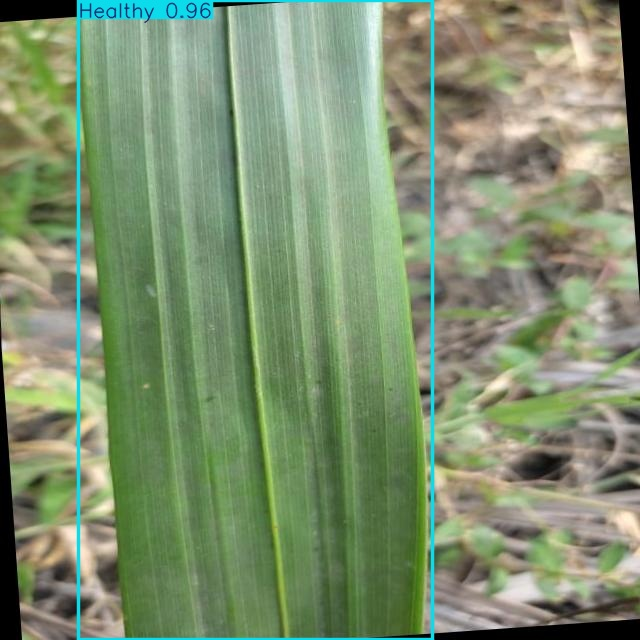Healthy: (79, 1, 432, 640)
